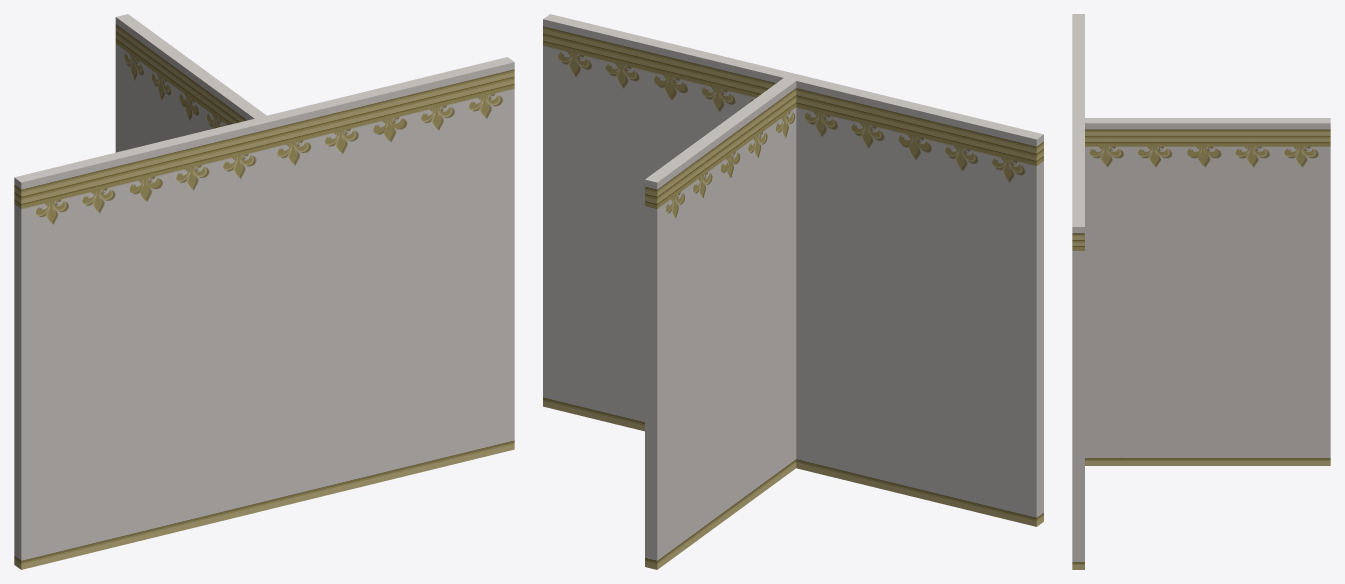
Rendered from geo_TWall_01.fbx.
The picture shows the model from 3 angles, left to right: view 1: azimuth 30°, elevation 25°; view 2: azimuth 150°, elevation 25°; view 3: azimuth 270°, elevation 25°; orthographic projection. The views are drawn at different scales.
Parts seen in each view (by area): view 1: geo_CornerWallFull_02, geo_CornerWallFull_01, geo_CornerWallCulled_02, geo_CornerWallCulled_01, geo_TWallFull_03; view 2: geo_CornerWallFull_02, geo_TWallFull_03, geo_CornerWallFull_01, geo_CornerWallCulled_02, geo_TWallCulled_03, geo_CornerWallCulled_01; view 3: geo_TWallFull_03, geo_TWallCulled_03, geo_CornerWallFull_01, geo_CornerWallFull_02, geo_CornerWallCulled_01.
Part boxes in pixels (left/top/right/bottom): geo_CornerWallFull_02: left=14, top=117, right=267, bottom=518; geo_CornerWallFull_01: left=255, top=57, right=514, bottom=457; geo_CornerWallCulled_02: left=14, top=458, right=267, bottom=569; geo_CornerWallCulled_01: left=268, top=398, right=514, bottom=509; geo_TWallFull_03: left=115, top=14, right=269, bottom=152; geo_CornerWallFull_02: left=796, top=75, right=1043, bottom=475; geo_TWallFull_03: left=645, top=73, right=801, bottom=518; geo_CornerWallFull_01: left=543, top=14, right=802, bottom=379; geo_CornerWallCulled_02: left=796, top=416, right=1043, bottom=526; geo_TWallCulled_03: left=645, top=417, right=796, bottom=569; geo_CornerWallCulled_01: left=543, top=355, right=644, bottom=431; geo_TWallFull_03: left=1085, top=118, right=1330, bottom=420; geo_TWallCulled_03: left=1085, top=420, right=1330, bottom=465; geo_CornerWallFull_01: left=1072, top=118, right=1084, bottom=524; geo_CornerWallFull_02: left=1072, top=14, right=1084, bottom=117; geo_CornerWallCulled_01: left=1072, top=524, right=1084, bottom=569.
Bounding box in the file's own units: 200 × 150 × 103.
1 material, 1 textured.
